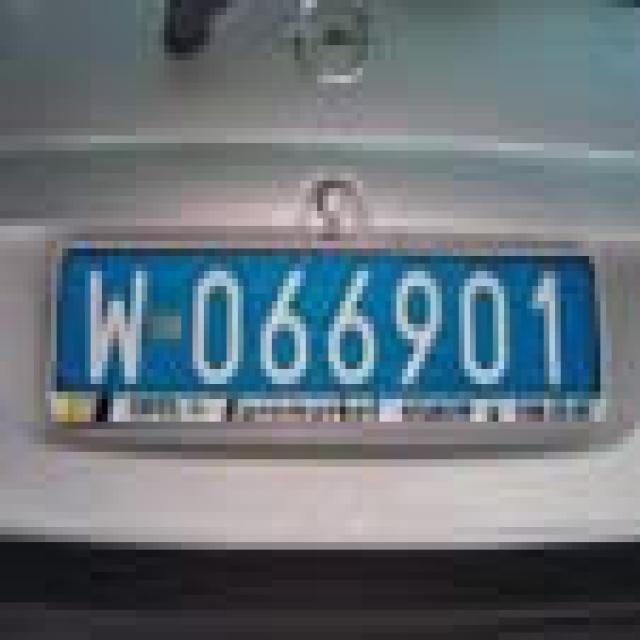pl_license_plate: (51, 241, 589, 376)
